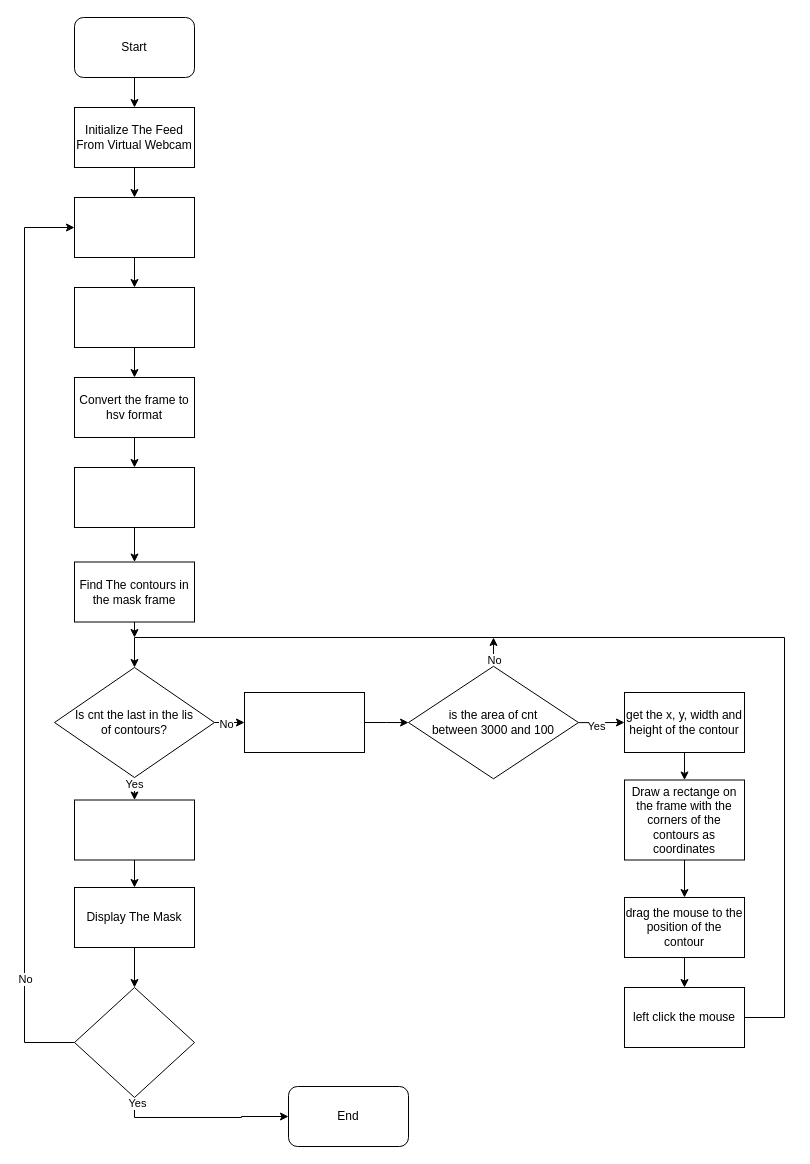
Image size: 810x1164. Some labels were removed from this diagram. The shapes that lost their labels are listed below. From the top down, each one's centre as x and y in pixels, then its label:
pixel 134 227: Read A Frame From The Camera
pixel 134 317: Convert the frame to a numpy array
pixel 134 497: Generate a colour mask to capture all blue pixels
pixel 304 722: Get the area of cnt
pixel 134 829: Display The Frame
pixel 134 1042: Has Space been pressed?
